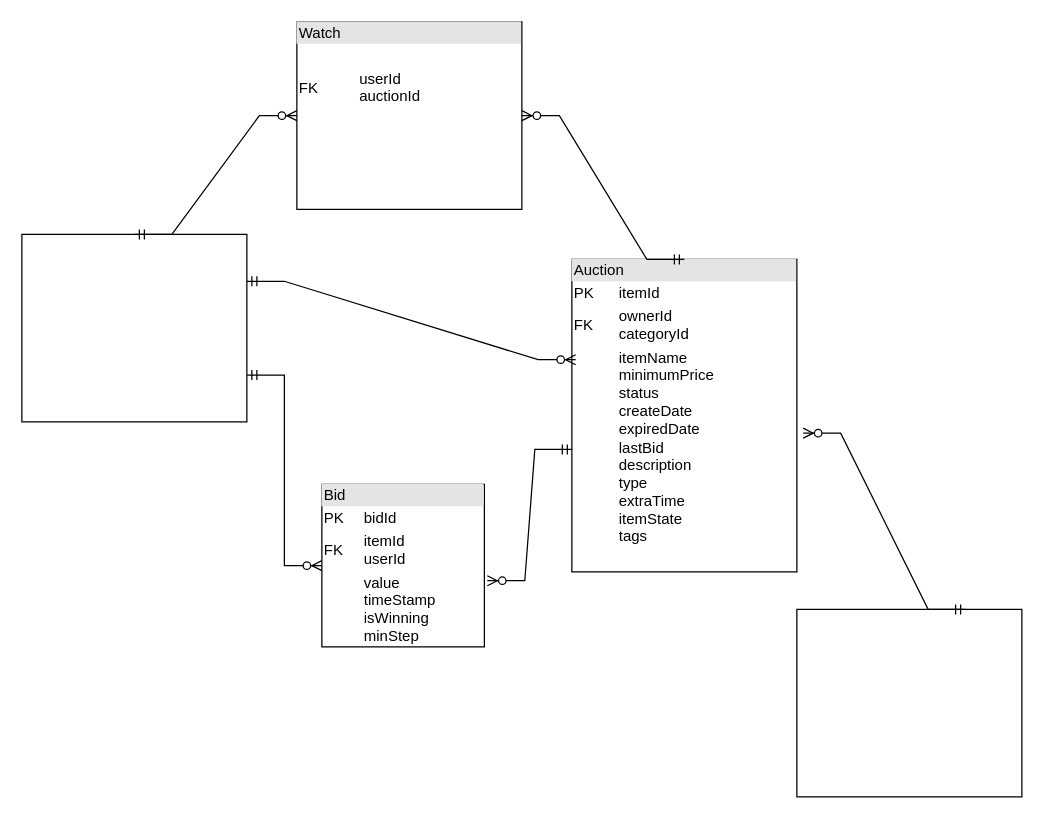
Image size: 1044x819. Some labels were removed from this diagram. Each missing label, with the box of its shape:
Category PK categoryId categoryName: (796, 608, 1022, 797)
User PK userId userName passwordHash emailAddress phoneNumber: (21, 233, 247, 422)
